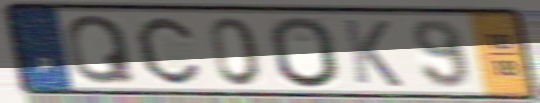0: (207, 16, 263, 88)
9: (409, 17, 475, 91)
C: (133, 15, 203, 87)
K: (339, 16, 406, 89)
O: (267, 14, 344, 91)
Q: (63, 13, 139, 87)
